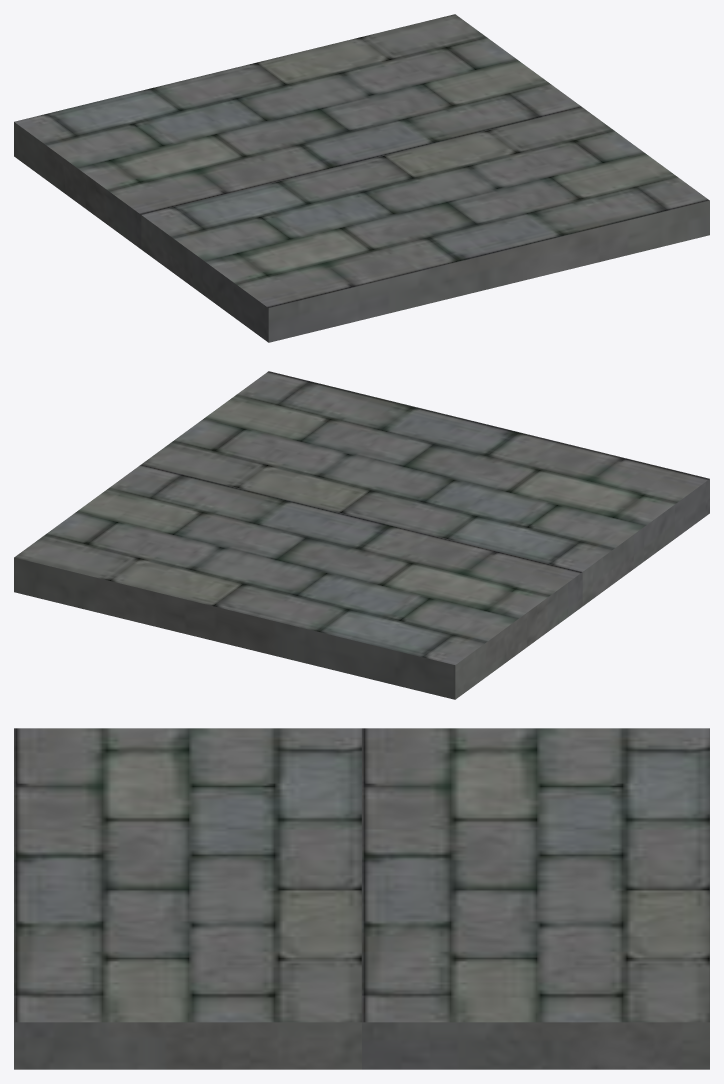
The model's file is sd_floor_large_01.glb.
The picture shows the model from 3 angles, top to bottom: view 1: azimuth 30°, elevation 25°; view 2: azimuth 150°, elevation 25°; view 3: azimuth 270°, elevation 25°; orthographic projection. The views are drawn at different scales.
Visible parts, largest first — view 1: floor_large_01; view 2: floor_large_01; view 3: floor_large_01.
Boxes of the visible parts, x1=… form: floor_large_01: x1=14, y1=14, x2=709, y2=342; floor_large_01: x1=14, y1=371, x2=709, y2=699; floor_large_01: x1=14, y1=728, x2=709, y2=1069.
Bounding box in the file's own units: 4 × 0.2998 × 4.
Materials: 1 (1 with a texture image).
